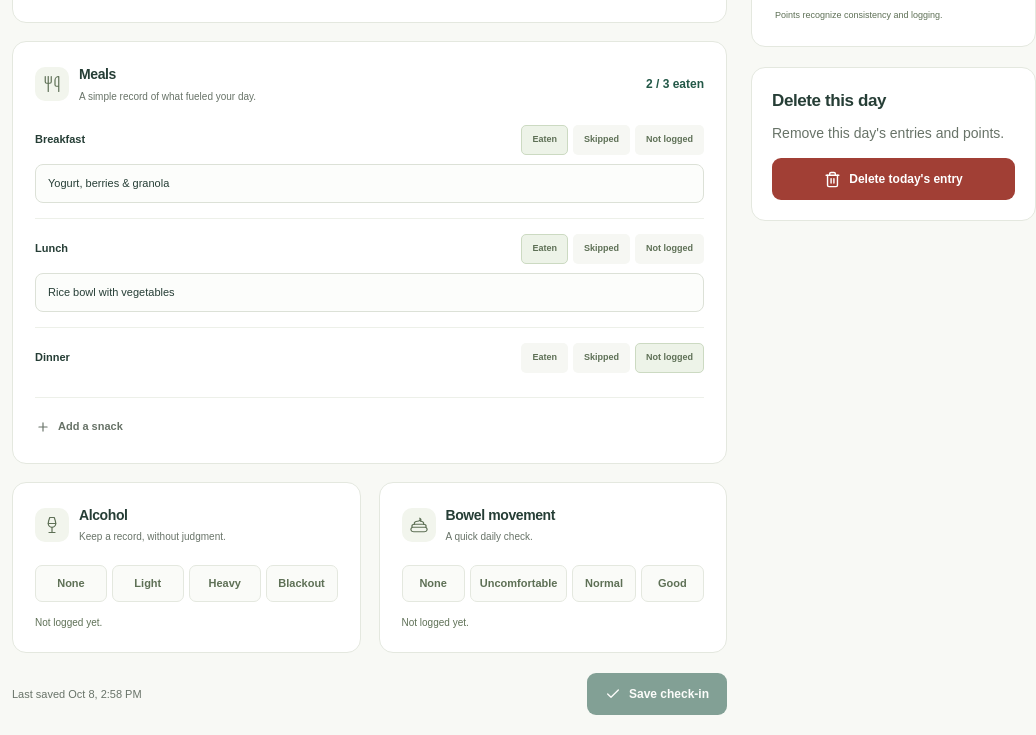
Test: daily check-in interactions › keeps an invalid snack draft and prevents the network save
(page scrolled)
Step 1. Click the button "Add a snack" → x=79, y=427, box [35,413,124,441]
(page scrolled)
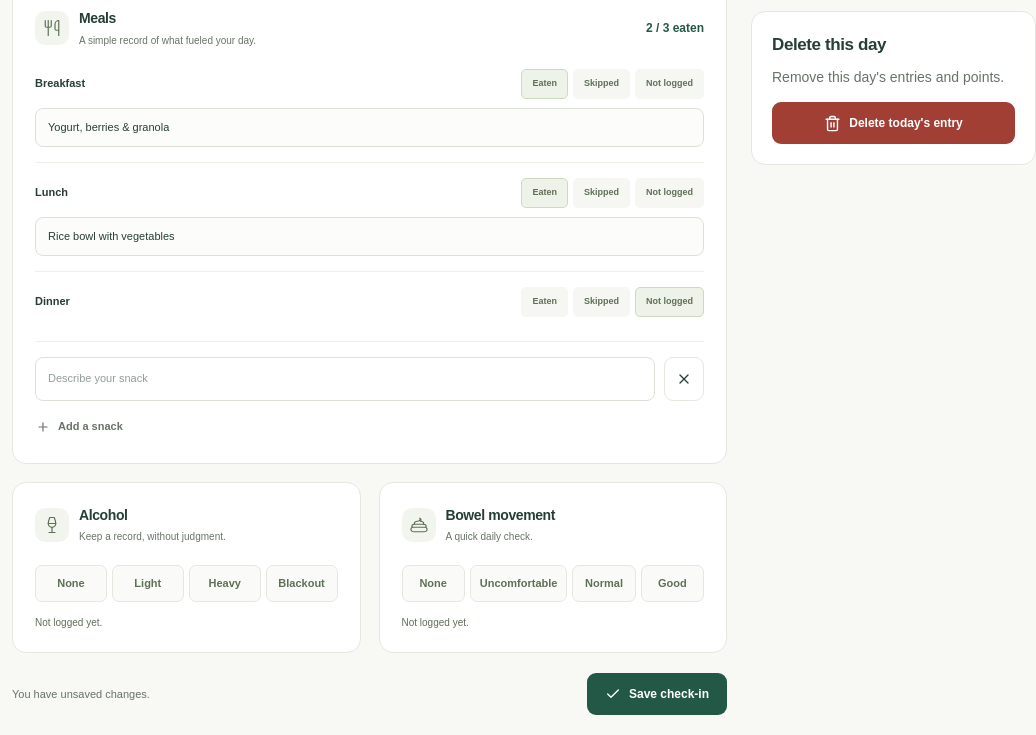
Step 2. Click the button "Save check-in" → x=657, y=694, box [587,673,727,715]
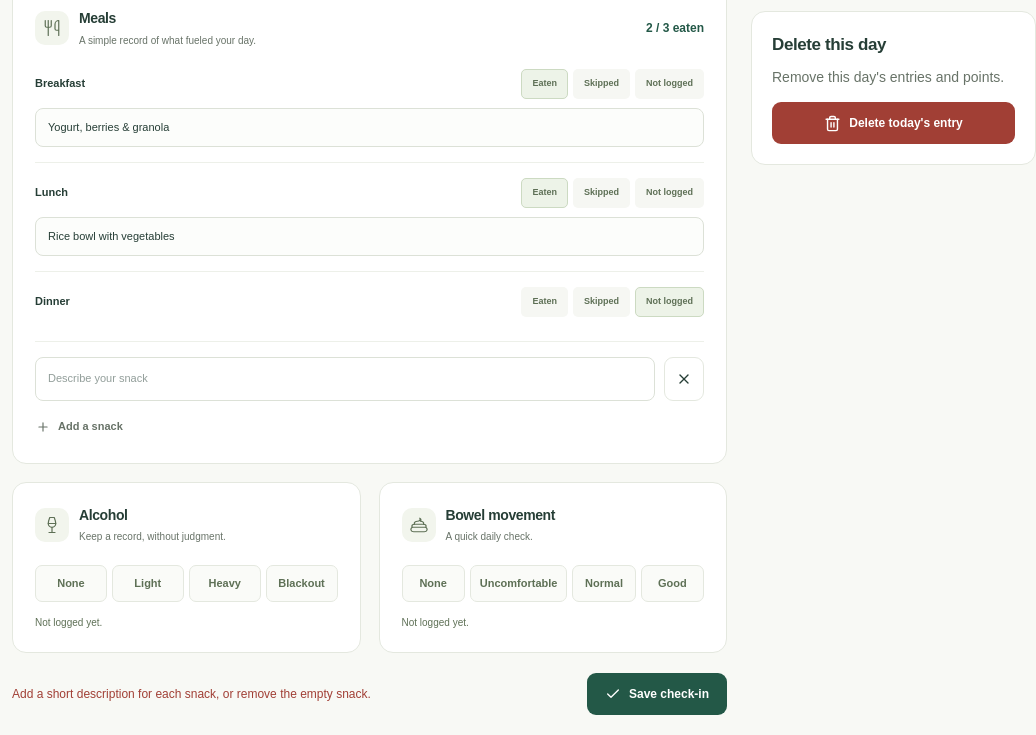
expect the message "Add a short description for each snack, or remove the empty snack." is shown: met, box [12,685,371,704]
